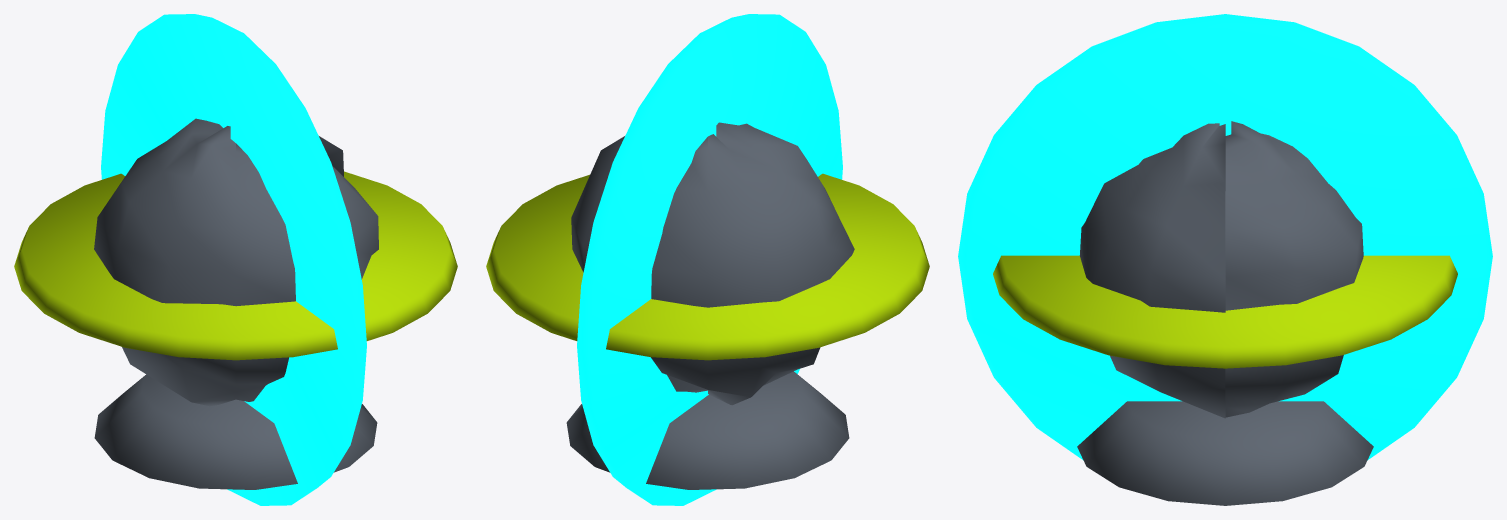
The picture shows the model from 3 angles, left to right: view 1: azimuth 30°, elevation 25°; view 2: azimuth 150°, elevation 25°; view 3: azimuth 270°, elevation 25°; orthographic projection. The views are drawn at different scales.
Visible parts, largest first — view 1: GeneratedObject3D; view 2: GeneratedObject3D; view 3: GeneratedObject3D.
Boxes of the visible parts, x1,y1,x2,y2 form: GeneratedObject3D: (14, 14, 457, 505); GeneratedObject3D: (486, 14, 929, 505); GeneratedObject3D: (958, 14, 1492, 505).
Size of the model in its own units: 2.8 by 3.2 by 3.2.
